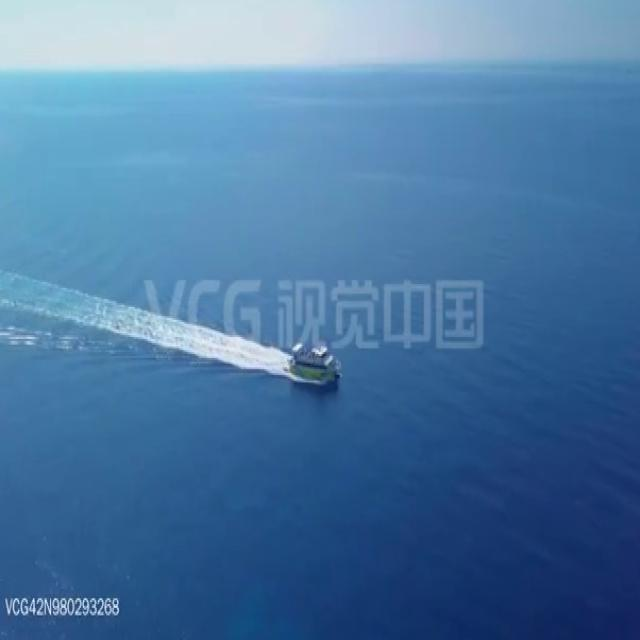houseboat: (284, 334, 346, 381)
